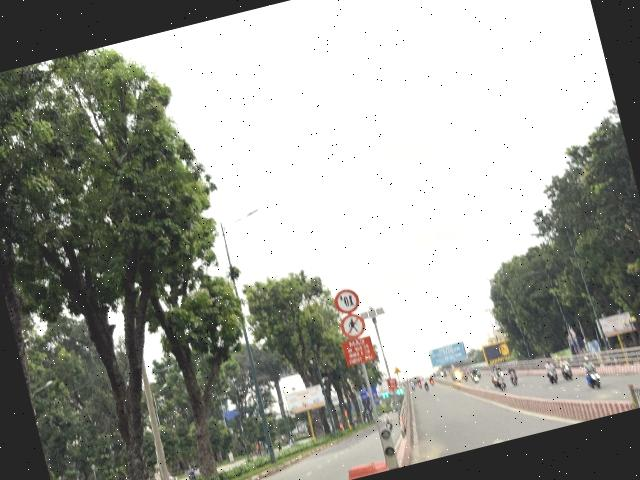cam-nguoi-di-bo: (338, 312, 368, 341)
han-che-trong-luong-xe: (331, 286, 361, 316)
